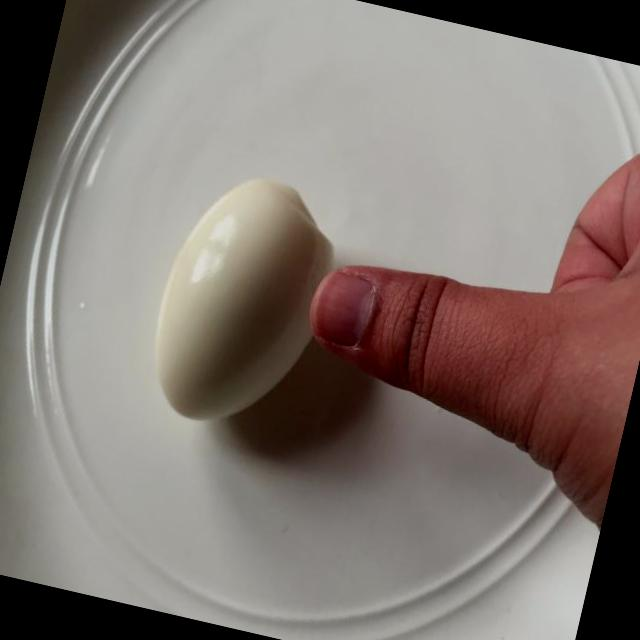Egg: (128, 150, 338, 446)
Finger: (296, 240, 497, 410)
